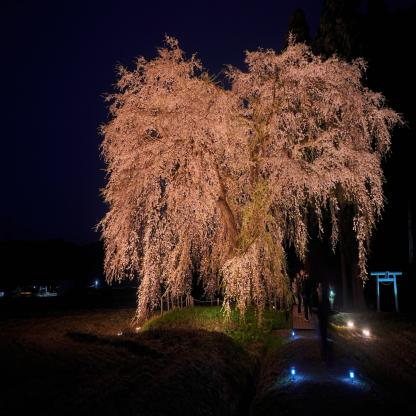ShidareZakura: (90, 28, 407, 328)
